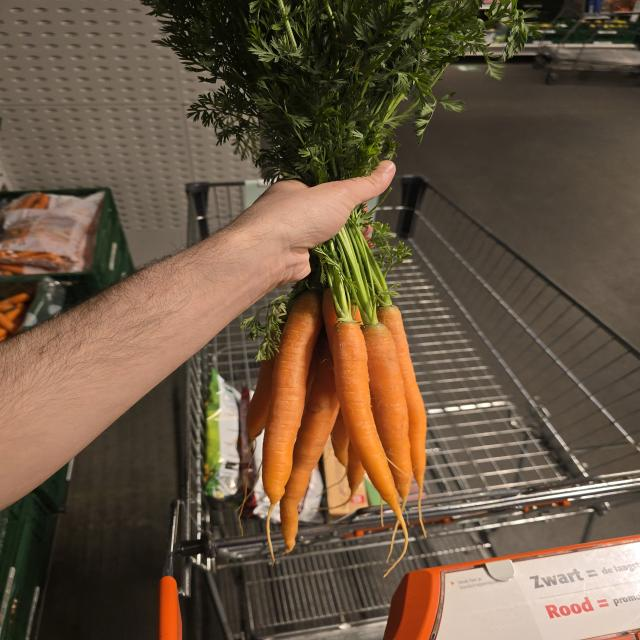Carrot: (330, 318, 403, 521), (262, 291, 322, 507), (280, 338, 339, 552), (378, 305, 427, 494), (361, 322, 412, 502)
